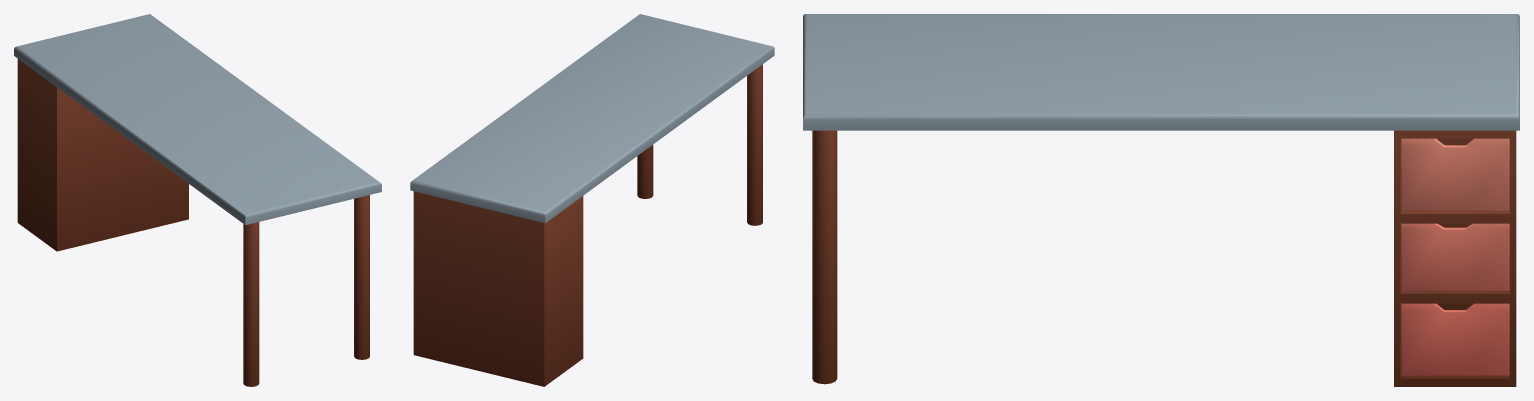
The model's file is Desk.fbx.
3 renders of one model, left to right at view 1: azimuth 30°, elevation 25°; view 2: azimuth 150°, elevation 25°; view 3: azimuth 270°, elevation 25°, orthographic. The views are drawn at different scales.
Parts seen in each view (by area): view 1: Desk_1; view 2: Desk_1; view 3: Desk_1.
Part boxes in pixels (x1,y1,x2,y2): Desk_1: (14, 14, 381, 386); Desk_1: (410, 14, 774, 386); Desk_1: (803, 14, 1519, 386).
Size of the model in its own units: 207 by 255 by 608.
